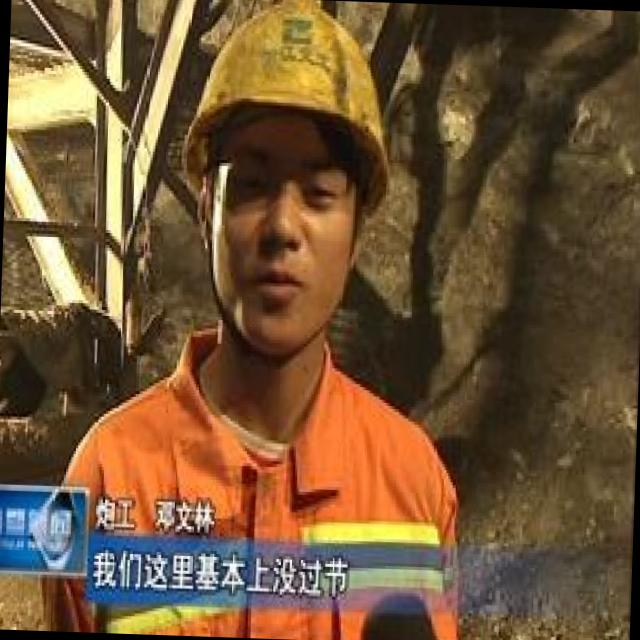helmet: (146, 0, 415, 391)
